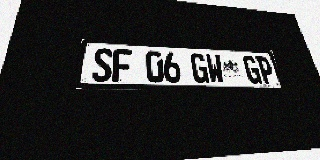0: (145, 51, 164, 83)
6: (162, 51, 182, 83)
F: (112, 49, 132, 82)
G: (190, 53, 210, 83), (242, 56, 263, 84)
P: (255, 56, 276, 84)
S: (91, 48, 113, 82)
W: (205, 54, 225, 83)
